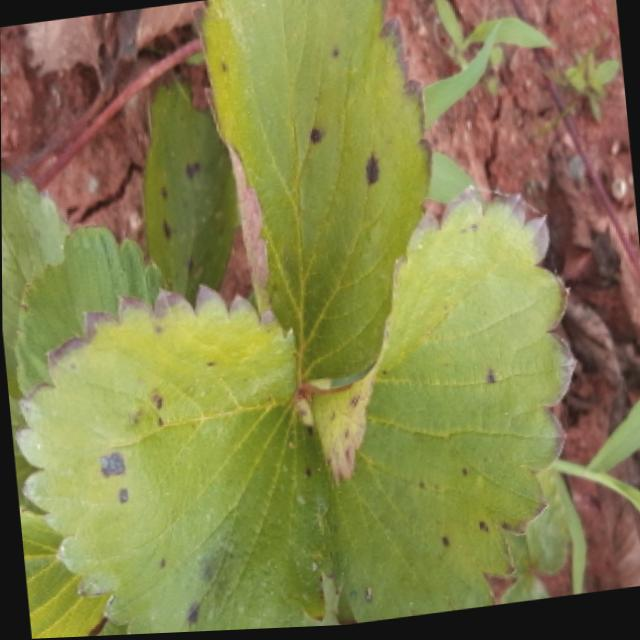Leaf Spot: (307, 189, 577, 626), (12, 284, 328, 636), (188, 0, 433, 391), (141, 76, 237, 309), (1, 163, 66, 399)
